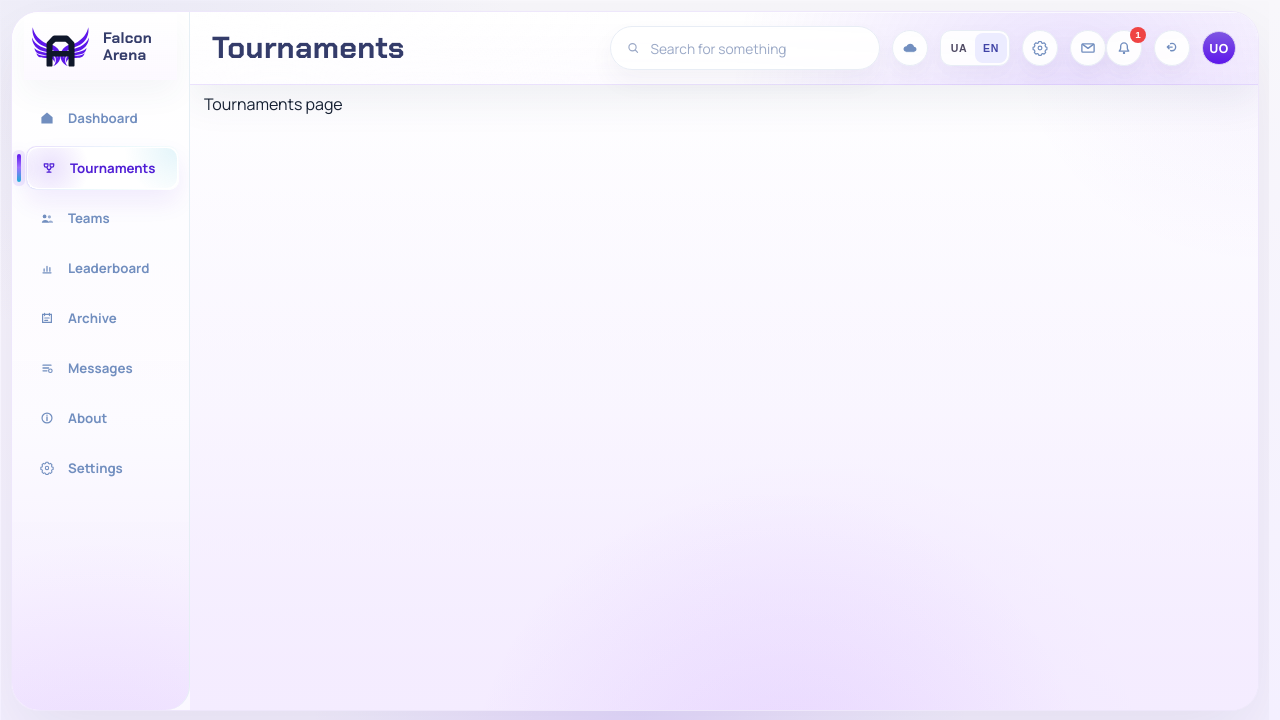
Test case: AppShell › opens selected announcement in messages with query parameter
The width and height of the screenshot is (1280, 720).
Click the button named "Notifications" at {"x": 1124, "y": 48}, box [1106,30,1142,66]
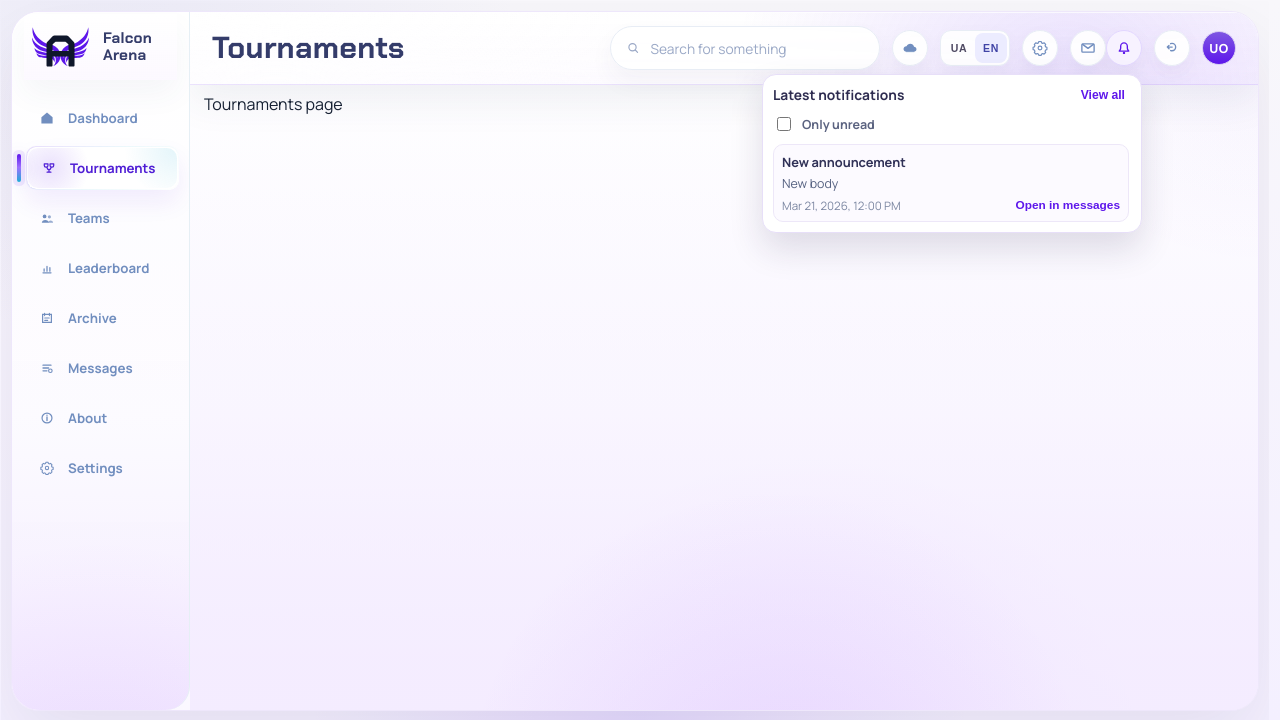
Click the button "Open in messages" at {"x": 1068, "y": 205}, box [1016,198,1120,212]
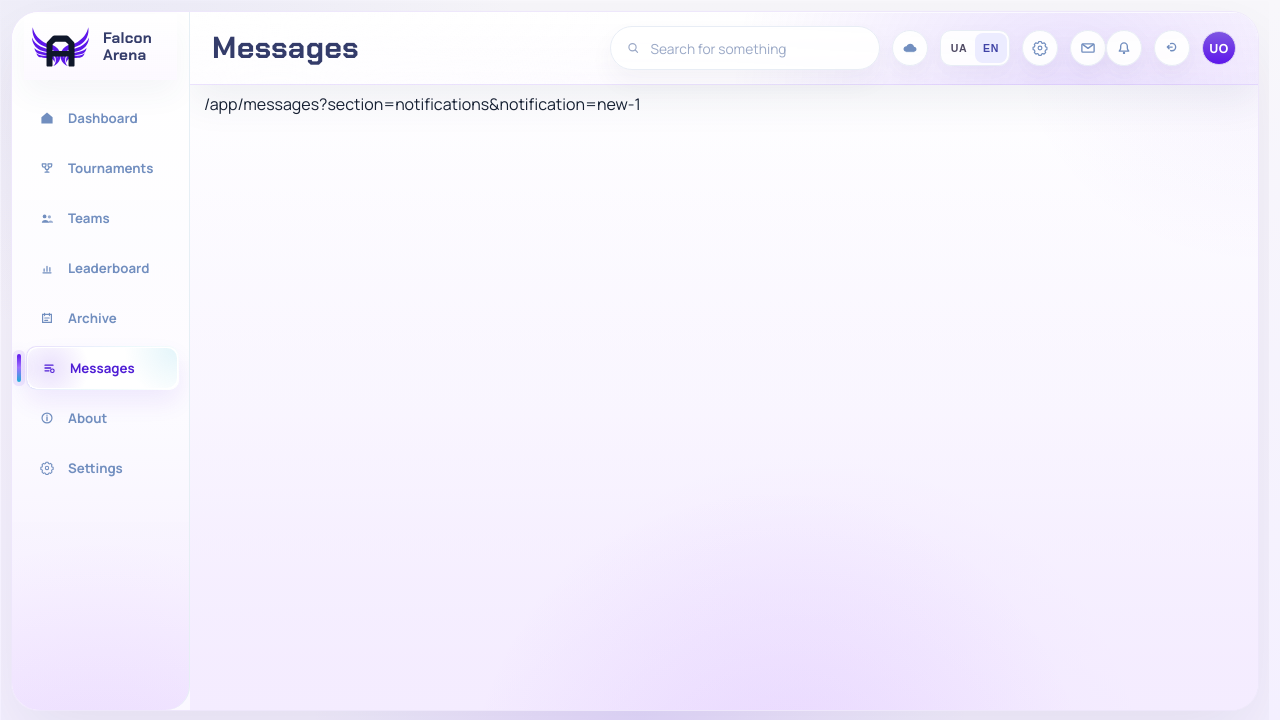
Now the text with test id "location-probe" reads "/app/messages?section=notifications&notification=new-1", box [204,93,641,115]
